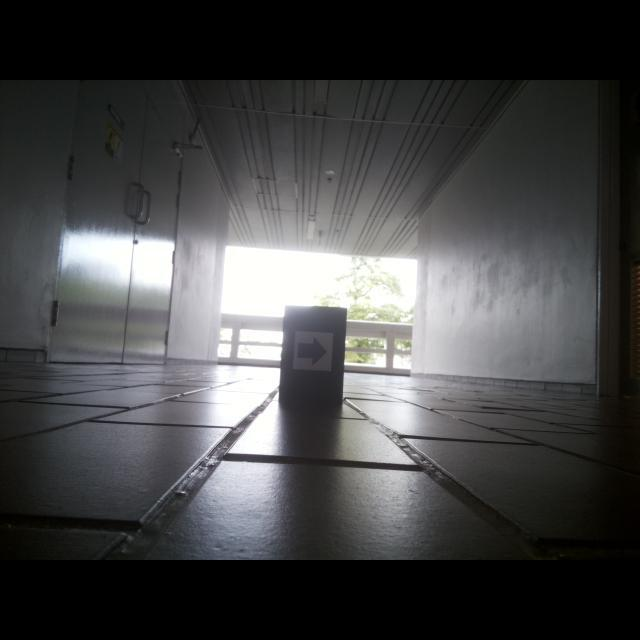RIGHT: (296, 335, 328, 368)
